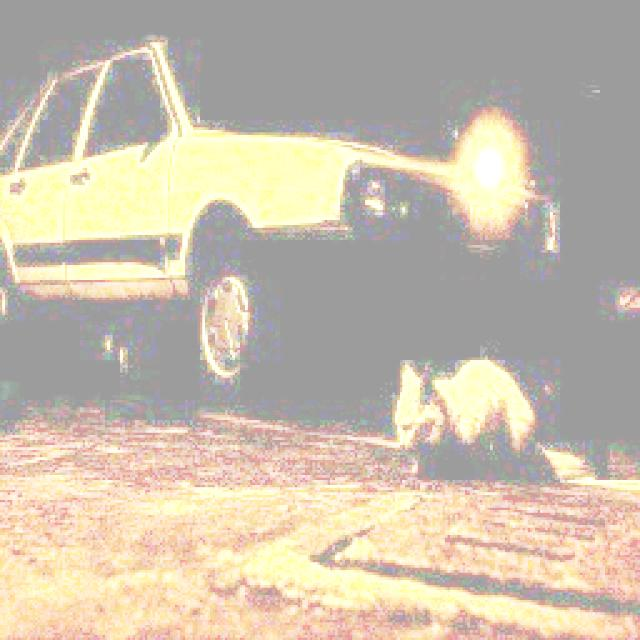cat: (379, 332, 600, 496)
